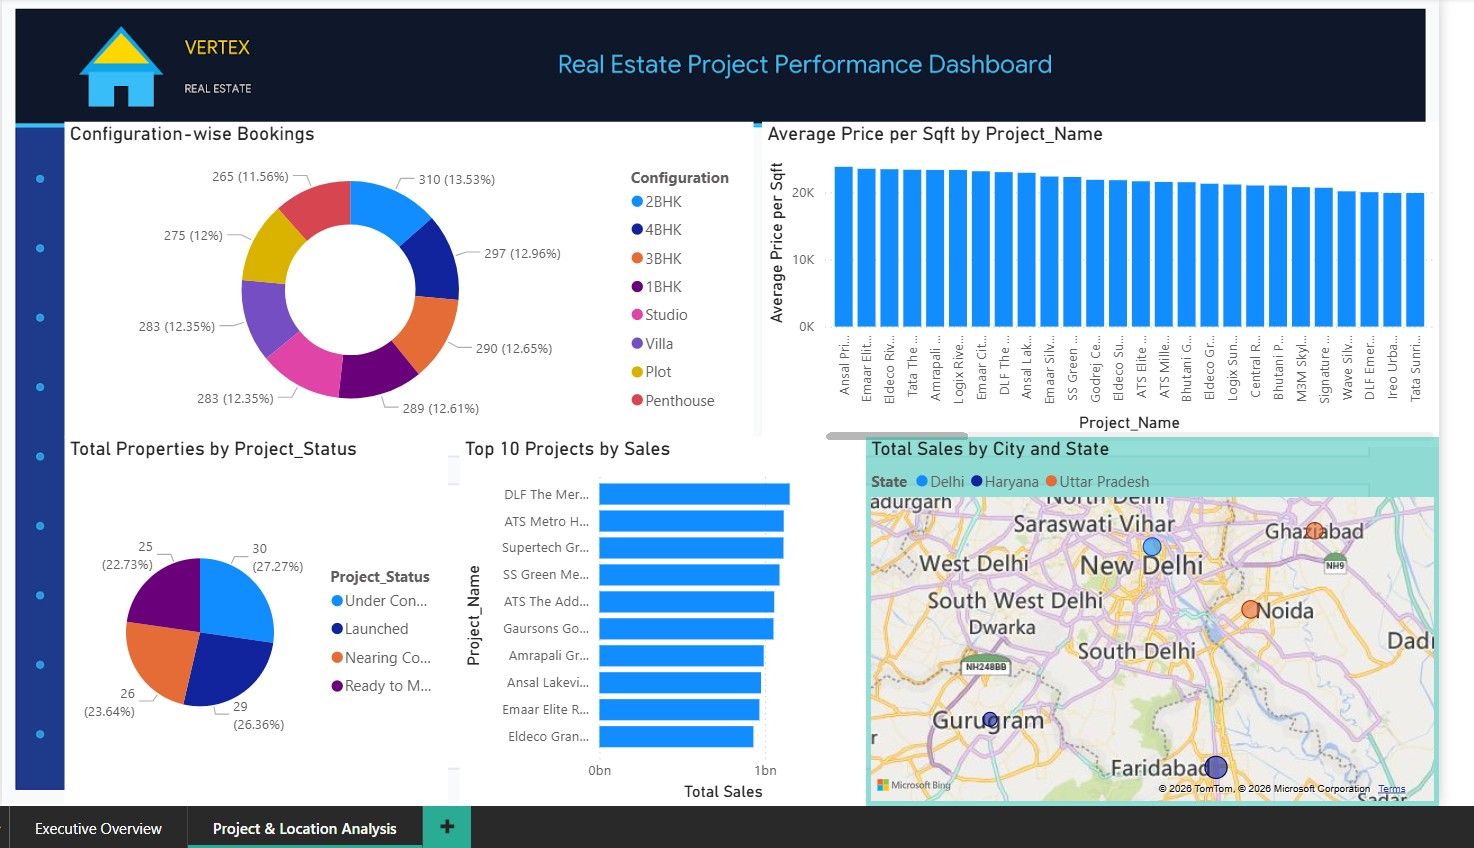

What the dashboard file says about the page in this screenshot:
{"tool":"powerbi","page":{"name":"Project & Location Analysis","canvas":[1280,720],"ordinal":1},"visuals":[{"type":"clusteredBarChart","title":"Top 10 Projects by Sales","fields":{"Category":["Locations.Project_Name"],"Y":["Measures (2).Total Sales"]},"box":[407.4,390.7,361.8,329.5],"z":0},{"type":"donutChart","title":"Configuration-wise Bookings","fields":{"Category":["Bookings.Configuration"],"Y":["Measures (2).Total Bookings"]},"box":[55.7,110.2,613.4,280.5],"z":1000},{"type":"clusteredColumnChart","fields":{"Category":["Locations.Project_Name"],"Y":["Measures (2).Average Price per Sqft"]},"box":[676.8,110.2,603.3,289.4],"z":2000},{"type":"pieChart","fields":{"Category":["Locations.Project_Status"],"Y":["Measures (2).Total Properties"]},"box":[55.7,390.7,341.7,329.5],"z":3000},{"type":"map","fields":{"Category":["Locations.City"],"Size":["Measures (2).Total Sales"],"Series":["Locations.State"]},"box":[769.2,390.7,510.9,329.5],"z":4000}]}

Visuals, with their boxes on the page's 1280x720 design canvas (x1, y1, x2, y2). These are canvas units, not pixel positions in the 1474x848 screenshot, which may show the page scaled, cropped or inside an application window:
"Top 10 Projects by Sales" clusteredBarChart: rect(407, 391, 769, 720)
"Configuration-wise Bookings" donutChart: rect(56, 110, 669, 391)
clusteredColumnChart - Locations.Project_Name x Measures (2).Average Price per Sqft: rect(677, 110, 1280, 400)
pieChart - Locations.Project_Status x Measures (2).Total Properties: rect(56, 391, 397, 720)
map - Locations.City x Measures (2).Total Sales: rect(769, 391, 1280, 720)
